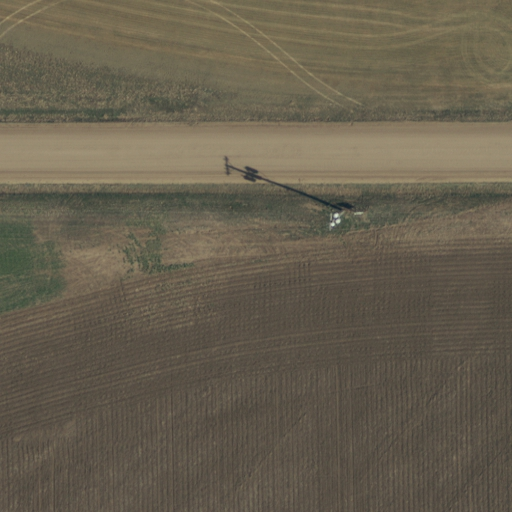DT: (322, 197, 364, 238)
